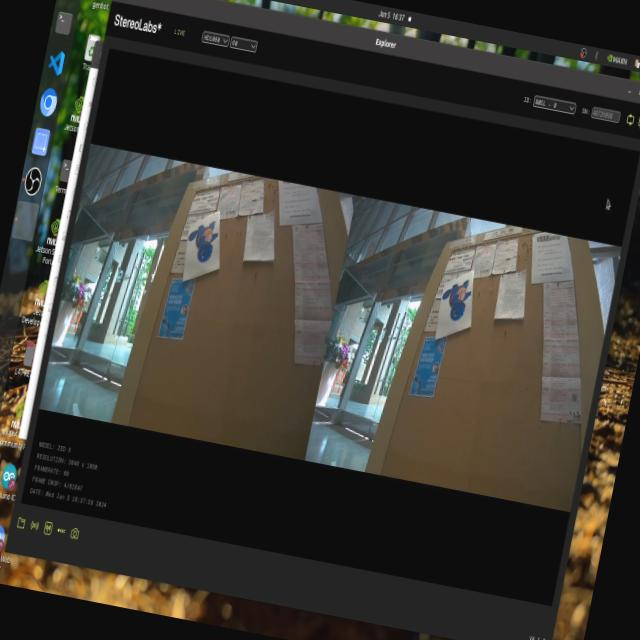blue: (182, 211, 228, 268), (437, 279, 472, 336)
